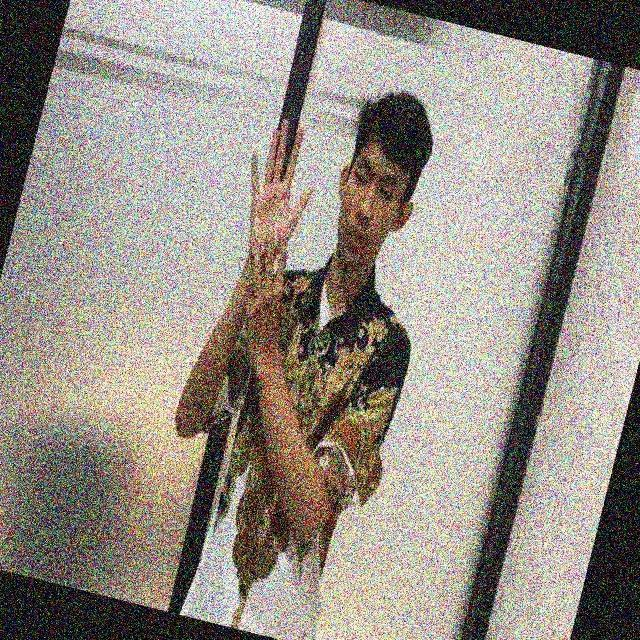M: (235, 106, 321, 304)
